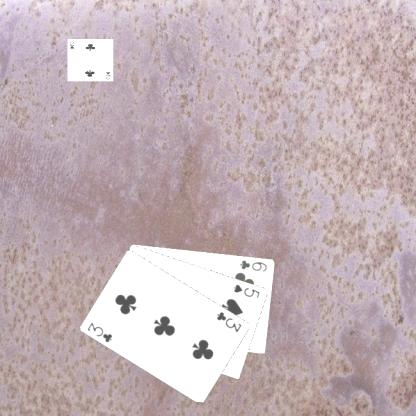3C: (214, 309, 243, 334), (84, 320, 114, 344)
5S: (231, 281, 262, 299)
6C: (237, 256, 269, 272)
